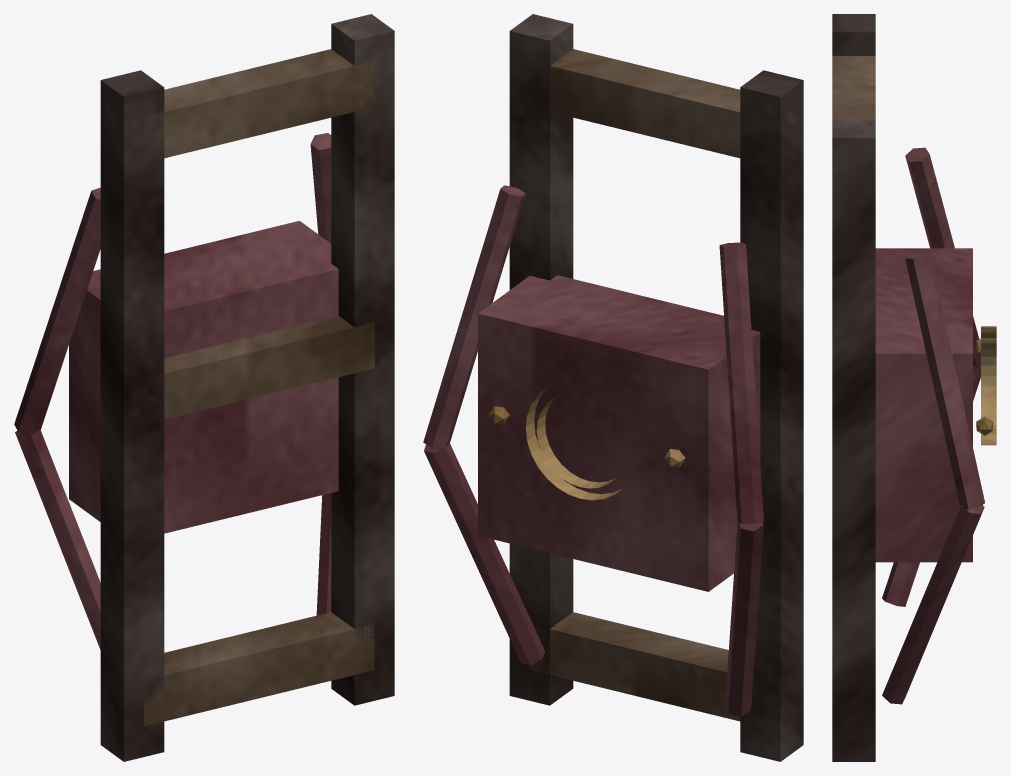
File: 0846_carrier_frame_21.glb
The picture shows the model from 3 angles, left to right: view 1: azimuth 30°, elevation 25°; view 2: azimuth 150°, elevation 25°; view 3: azimuth 270°, elevation 25°; orthographic projection. The views are drawn at different scales.
Parts seen in each view (by area): view 1: wood_dark, cloth, wood; view 2: cloth, wood_dark, wood, brass; view 3: cloth, wood_dark, wood, brass.
Part boxes in pixels (x1=…): wood_dark: x1=100, y1=14, x2=394, y2=761; cloth: x1=14, y1=133, x2=338, y2=649; wood: x1=144, y1=49, x2=374, y2=726; cloth: x1=423, y1=185, x2=763, y2=716; wood_dark: x1=509, y1=14, x2=803, y2=761; wood: x1=529, y1=49, x2=760, y2=721; brass: x1=488, y1=383, x2=685, y2=500; cloth: x1=875, y1=147, x2=984, y2=704; wood_dark: x1=832, y1=14, x2=875, y2=761; wood: x1=832, y1=56, x2=875, y2=119; brass: x1=976, y1=326, x2=996, y2=445.
Bounding box in the file's own units: 0.921 × 1.74 × 0.415.
4 materials, 4 textured.
